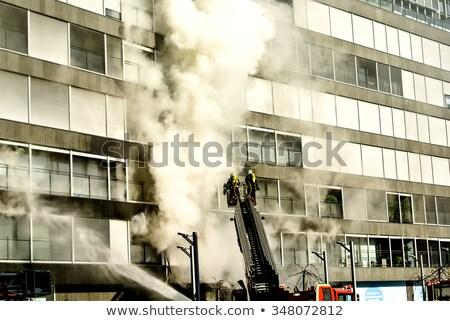smoke: (151, 4, 264, 131), (146, 168, 246, 285)
